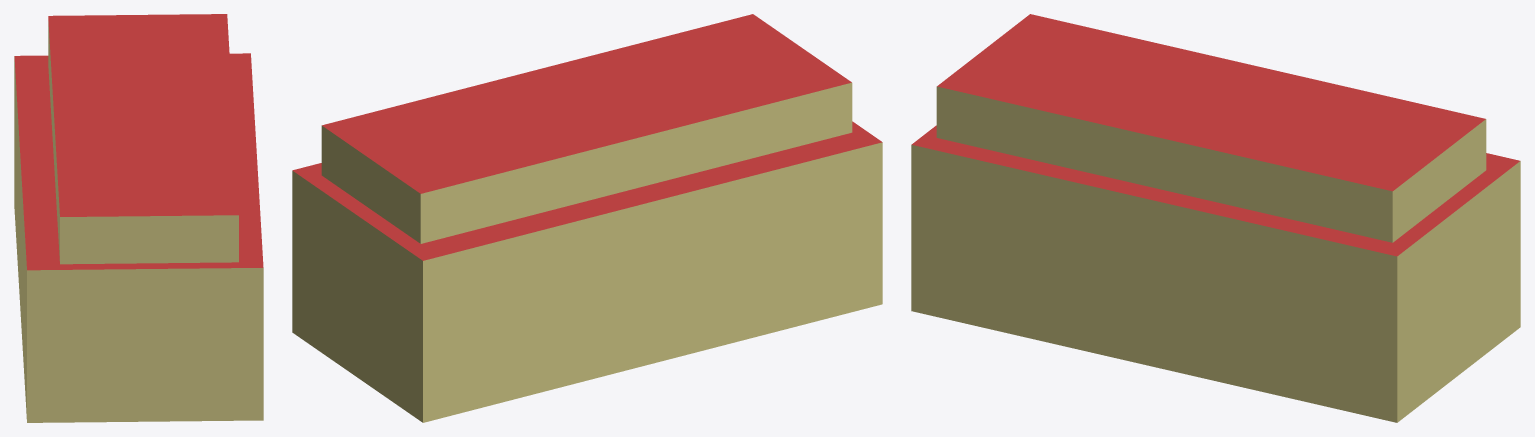
3 renders of one model, left to right at view 1: azimuth 30°, elevation 25°; view 2: azimuth 150°, elevation 25°; view 3: azimuth 270°, elevation 25°, orthographic. The views are drawn at different scales.
Parts seen in each view (by area): view 1: group_6, group_4, group_3, group_5; view 2: group_6, group_4, group_5, group_3; view 3: group_6, group_4, group_5, group_3.
Part boxes in pixels (x1,y1,x2,y2): group_6: (14,56,263,422); group_4: (48,14,238,216); group_3: (14,53,263,270); group_5: (48,21,238,264); group_6: (292,142,882,422); group_4: (322,14,851,193); group_5: (321,82,852,243); group_3: (292,121,882,260); group_6: (911,144,1520,422); group_4: (937,14,1485,191); group_5: (936,86,1486,242); group_3: (912,125,1519,256).
Bounding box in the file's own units: 30.46 × 37.78 × 14.91.
